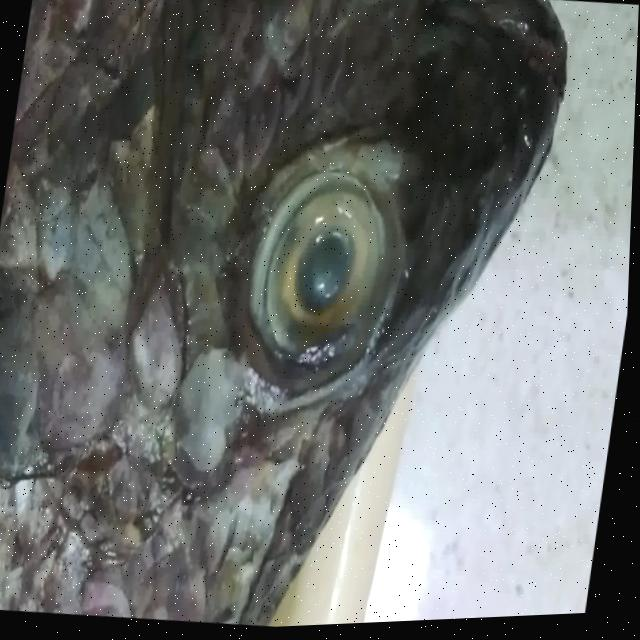Non-Fresh: (205, 119, 425, 392)
